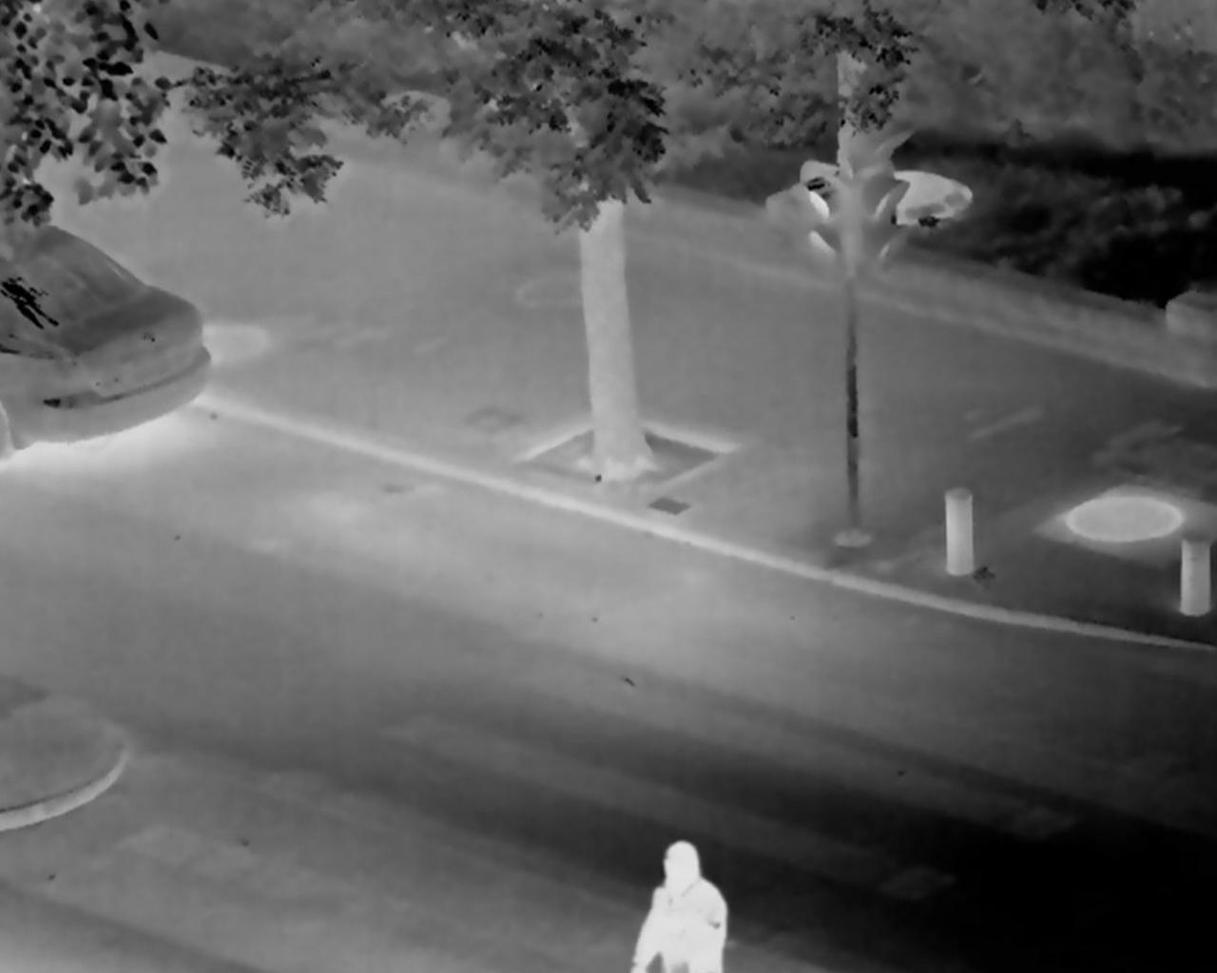person: (626, 828, 725, 973)
